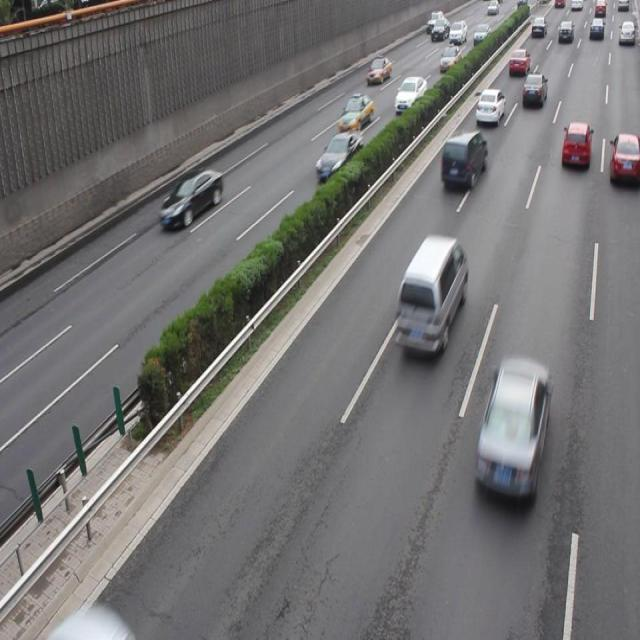car: (474, 356, 550, 506), (159, 169, 223, 229), (439, 127, 486, 188), (315, 130, 362, 180), (608, 133, 640, 187), (560, 120, 591, 170), (338, 93, 373, 131)
truck: (396, 234, 468, 355)
